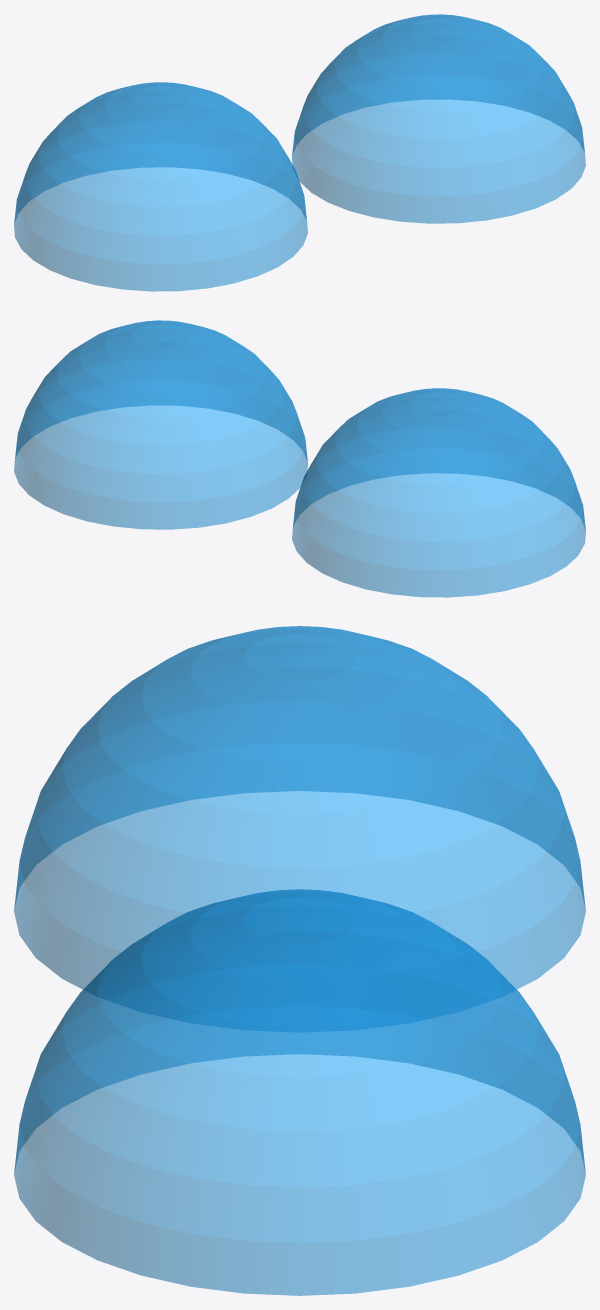
File: blue dome.fbx
3 views of the same model, one above another, from view 1: azimuth 30°, elevation 25°; view 2: azimuth 150°, elevation 25°; view 3: azimuth 270°, elevation 25° (orthographic). The views are drawn at different scales.
Parts seen in each view (by area): view 1: Sphere.034, Sphere.035, Sphere.036, Sphere.037, Sphere.038, Sphere.039, Sphere.040, Sphere.041, Sphere.028, Sphere.029, Sphere.030, Sphere.042 (+33 smaller); view 2: Sphere.034, Sphere.035, Sphere.036, Sphere.037, Sphere.038, Sphere.039, Sphere.040, Sphere.041, Sphere.028, Sphere.029, Sphere.030, Sphere.042 (+33 smaller); view 3: Sphere.034, Sphere.035, Sphere.036, Sphere.037, Sphere.038, Sphere.039, Sphere.040, Sphere.041, Sphere.042, Sphere.043, Sphere.022, Sphere.023 (+34 smaller).
Part boxes in pixels (x1,y1,x2,y2): Sphere.034: [292, 87, 585, 223]; Sphere.035: [293, 75, 584, 209]; Sphere.036: [295, 64, 582, 196]; Sphere.037: [299, 53, 578, 182]; Sphere.038: [303, 44, 574, 167]; Sphere.039: [310, 36, 567, 153]; Sphere.040: [316, 30, 561, 138]; Sphere.041: [326, 23, 551, 124]; Sphere.028: [14, 161, 307, 291]; Sphere.029: [14, 155, 307, 284]; Sphere.030: [15, 149, 306, 277]; Sphere.042: [335, 20, 542, 110]; Sphere.034: [14, 393, 307, 529]; Sphere.035: [15, 381, 306, 515]; Sphere.036: [17, 370, 304, 502]; Sphere.037: [21, 359, 300, 488]; Sphere.038: [25, 350, 296, 473]; Sphere.039: [32, 342, 289, 459]; Sphere.040: [38, 336, 283, 444]; Sphere.041: [48, 329, 273, 430]; Sphere.028: [292, 467, 585, 597]; Sphere.029: [292, 461, 585, 590]; Sphere.030: [293, 455, 584, 583]; Sphere.042: [57, 326, 264, 416]; Sphere.034: [14, 1030, 585, 1295]; Sphere.035: [16, 1006, 583, 1269]; Sphere.036: [19, 985, 580, 1242]; Sphere.037: [27, 964, 572, 1215]; Sphere.038: [36, 947, 563, 1187]; Sphere.039: [49, 931, 550, 1159]; Sphere.040: [62, 918, 537, 1131]; Sphere.041: [80, 906, 519, 1104]; Sphere.042: [98, 899, 501, 1077]; Sphere.043: [119, 892, 480, 1051]; Sphere.022: [55, 667, 544, 882]; Sphere.023: [49, 676, 550, 894].
Size of what is drawn, in the model's own units: 1671 by 400 by 800.
